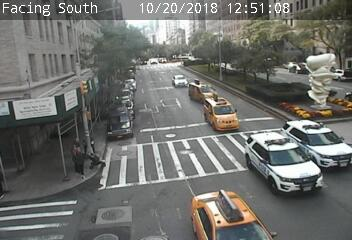car: (246, 132, 323, 193), (284, 119, 352, 169), (203, 98, 240, 128), (189, 83, 219, 101), (172, 74, 188, 87)
